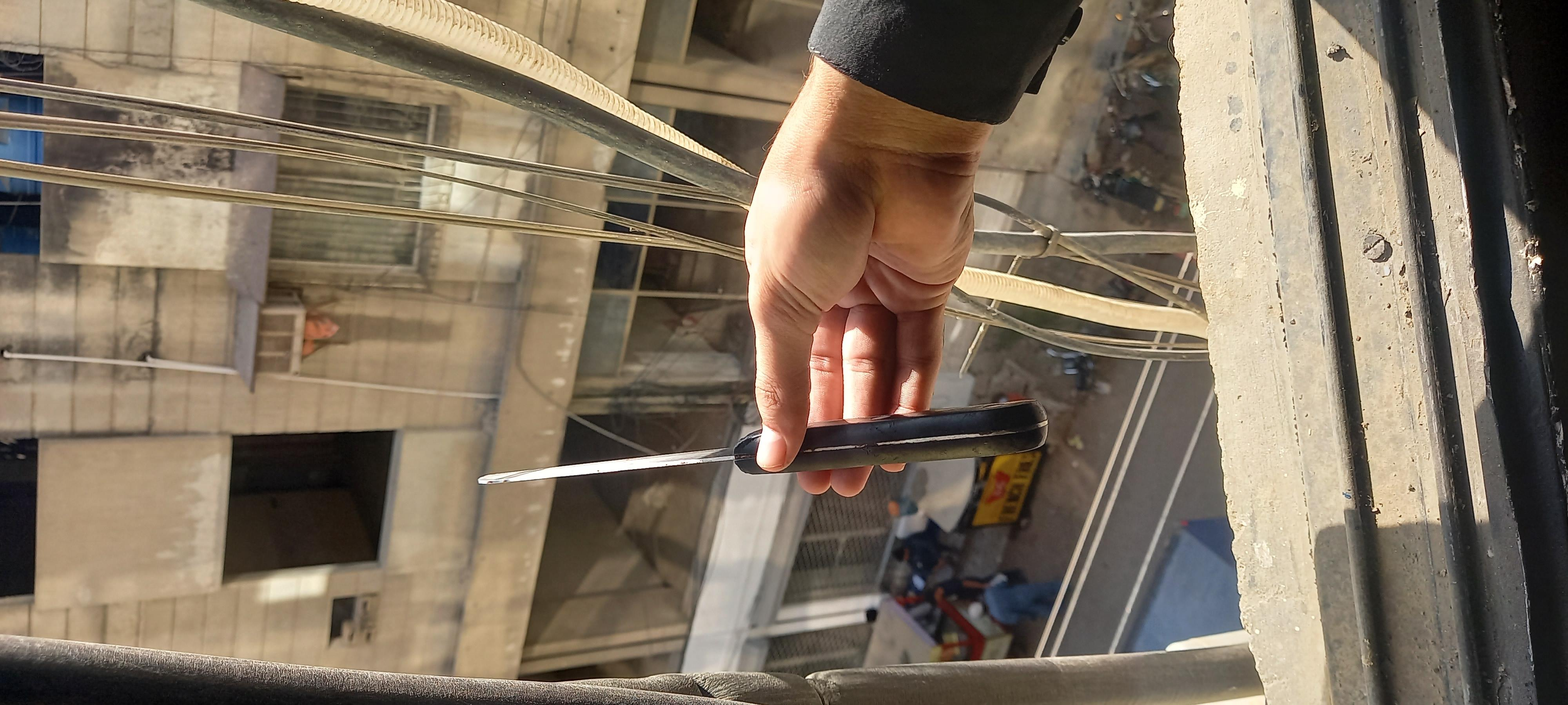knives: (450, 208, 723, 474)
